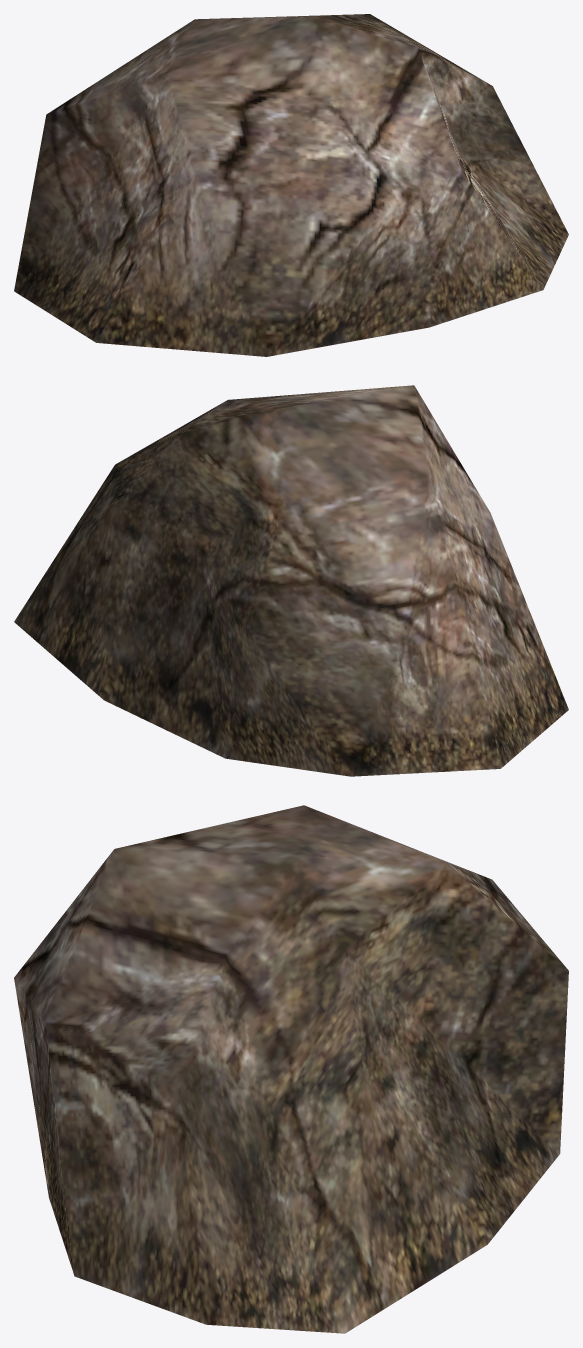
The model's file is hr_ps_stone3.glb.
The picture shows the model from 3 angles, top to bottom: view 1: azimuth 30°, elevation 25°; view 2: azimuth 150°, elevation 25°; view 3: azimuth 270°, elevation 25°; orthographic projection. The views are drawn at different scales.
Visible parts, largest first — view 1: hr_ps_stone3-col; view 2: hr_ps_stone3-col; view 3: hr_ps_stone3-col.
Boxes of the visible parts, x1,y1,x2,y2 form: hr_ps_stone3-col: (14, 14, 568, 356); hr_ps_stone3-col: (14, 385, 568, 776); hr_ps_stone3-col: (14, 805, 568, 1333).
Bounding box in the file's own units: 1.21 × 0.5839 × 0.9112.
1 material, 1 textured.
